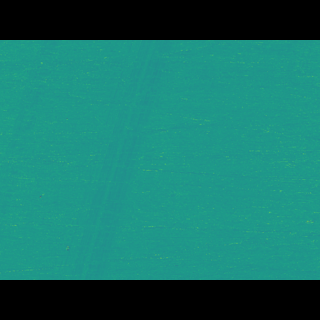Loch: (52, 69, 180, 251), (0, 71, 62, 226)
